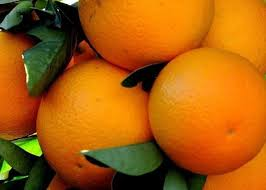orange: (146, 50, 266, 175), (38, 60, 152, 183)
